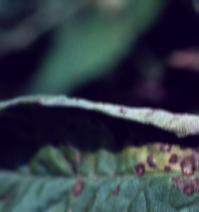Tomato Septoria leaf spot: (0, 89, 199, 212)
